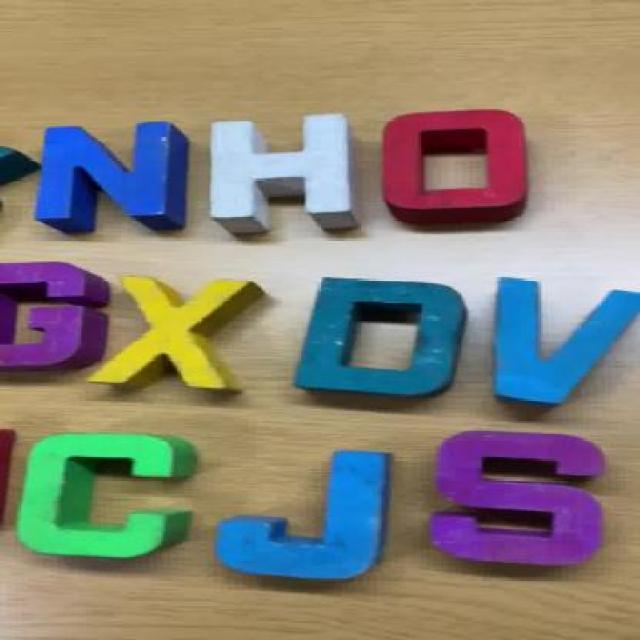C: (0, 432, 186, 565)
D: (284, 272, 471, 408)
H: (209, 118, 365, 233)
J: (220, 452, 402, 586)
N: (43, 123, 199, 234)
O: (374, 105, 566, 244)
S: (428, 425, 624, 573)
V: (471, 274, 638, 426)
X: (102, 276, 276, 402)
